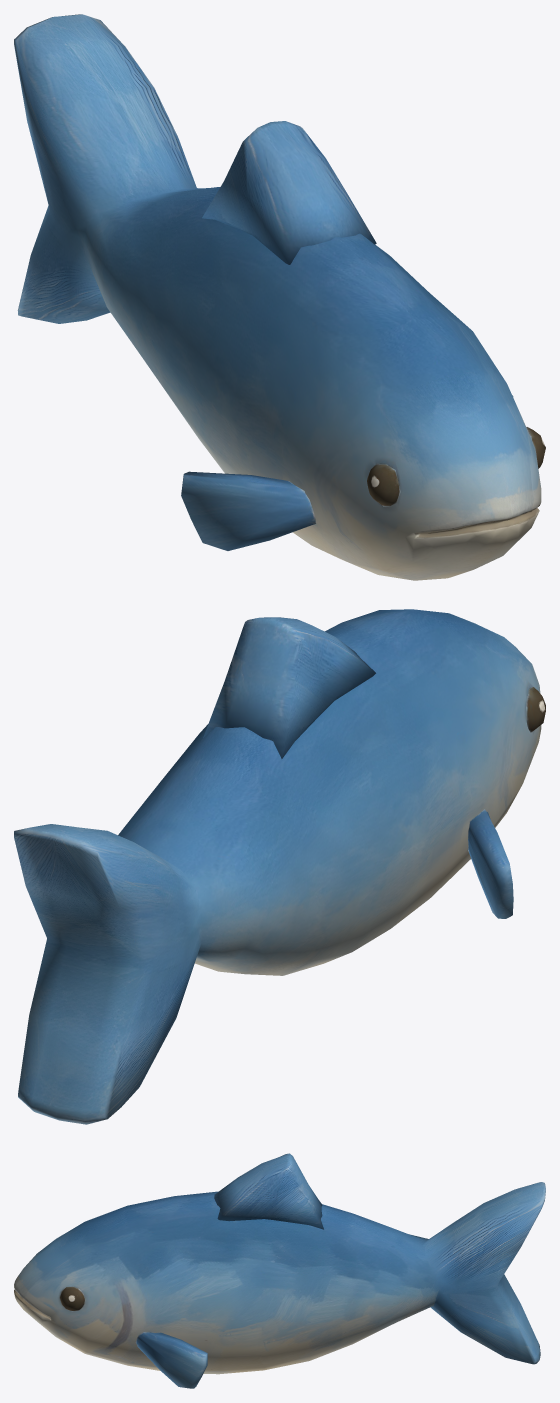
The picture shows the model from 3 angles, top to bottom: view 1: azimuth 30°, elevation 25°; view 2: azimuth 150°, elevation 25°; view 3: azimuth 270°, elevation 25°; orthographic projection. The views are drawn at different scales.
Visible parts, largest first — view 1: tripo_node_6d3893c9-6508-4899-9c49-c39232a4dcf8; view 2: tripo_node_6d3893c9-6508-4899-9c49-c39232a4dcf8; view 3: tripo_node_6d3893c9-6508-4899-9c49-c39232a4dcf8.
Part boxes in pixels (x1,y1,x2,y2): tripo_node_6d3893c9-6508-4899-9c49-c39232a4dcf8: [14, 14, 545, 580]; tripo_node_6d3893c9-6508-4899-9c49-c39232a4dcf8: [14, 609, 545, 1124]; tripo_node_6d3893c9-6508-4899-9c49-c39232a4dcf8: [14, 1153, 545, 1388].
Size of the model in its own units: 0.4238 by 0.4395 by 0.998.
1 material, 1 textured.
